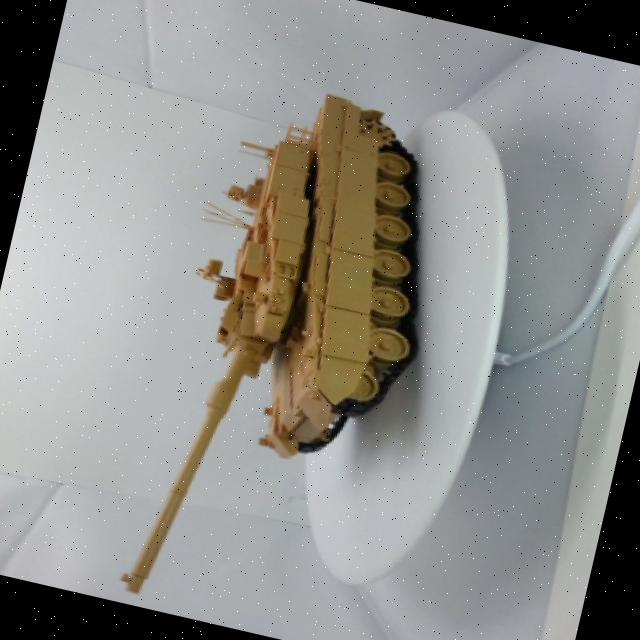korea tank: (101, 29, 486, 640)
